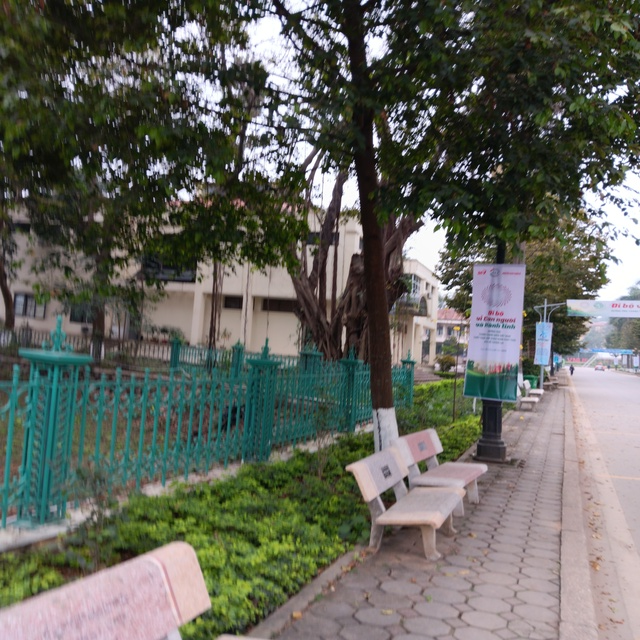gheda: (5, 539, 250, 640), (340, 445, 473, 562), (391, 425, 502, 507), (511, 383, 548, 415), (523, 375, 553, 402)
